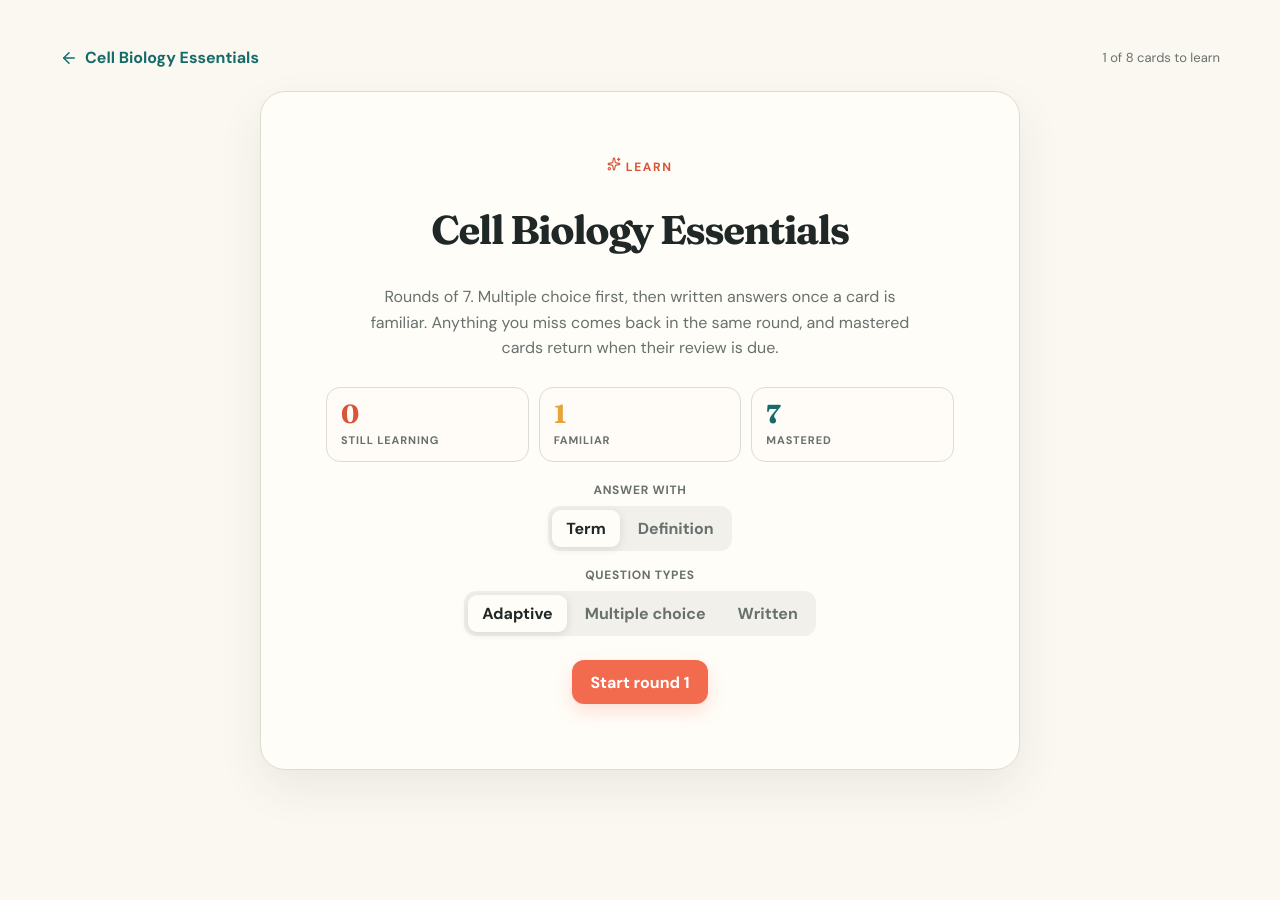
Test case: learn mode › asks familiar cards in writing and retypes the answer after a miss
The width and height of the screenshot is (1280, 900).
Click the button "Start round 1" at {"x": 640, "y": 682}, box left=572, top=660, right=708, bottom=704
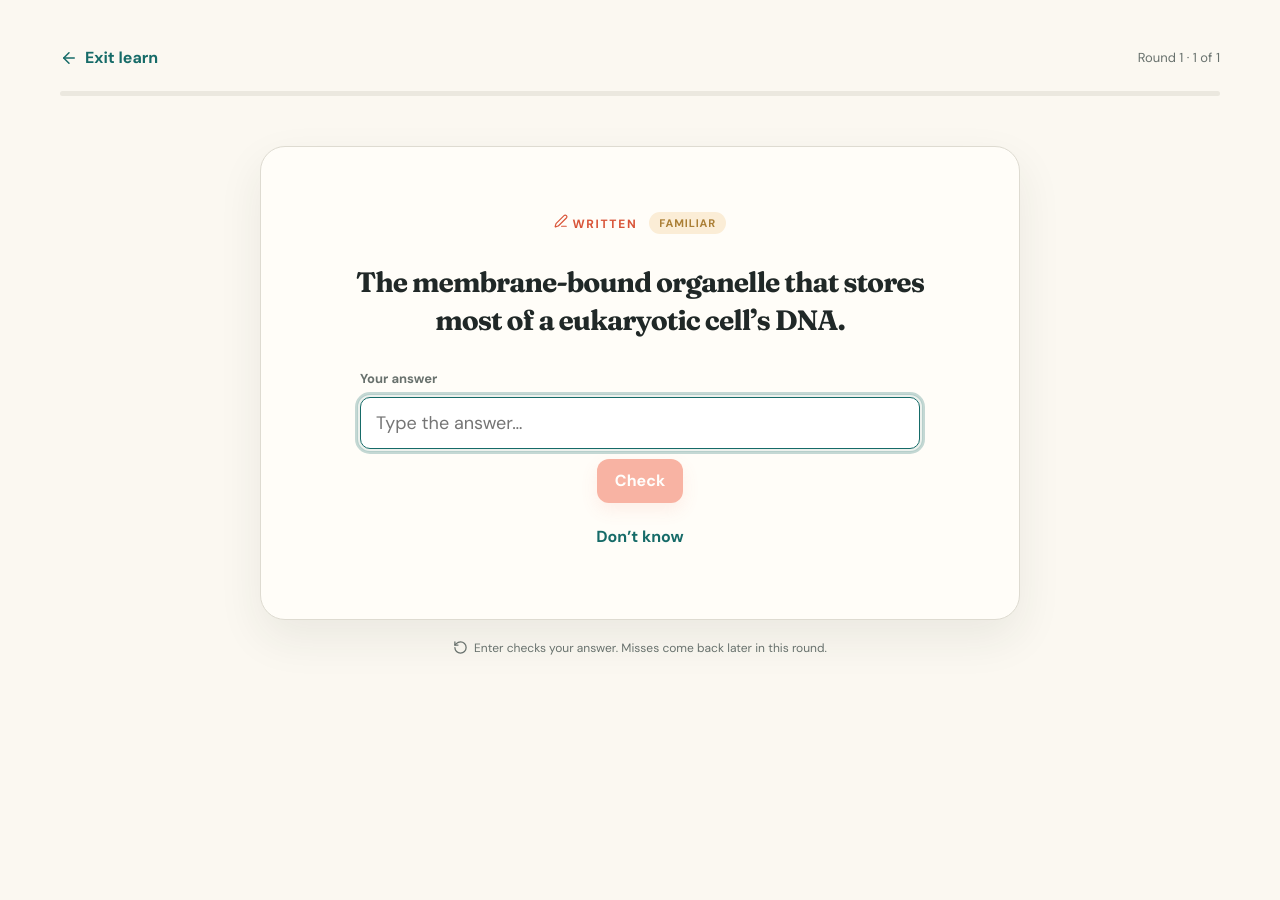
Now the heading reads "The membrane-bound organelle that stores most of a eukaryotic cell’s DNA.", box left=356, top=265, right=924, bottom=337
Type "Ribosome" into the field labelled "Your answer" at {"x": 640, "y": 423}, box left=360, top=397, right=920, bottom=449
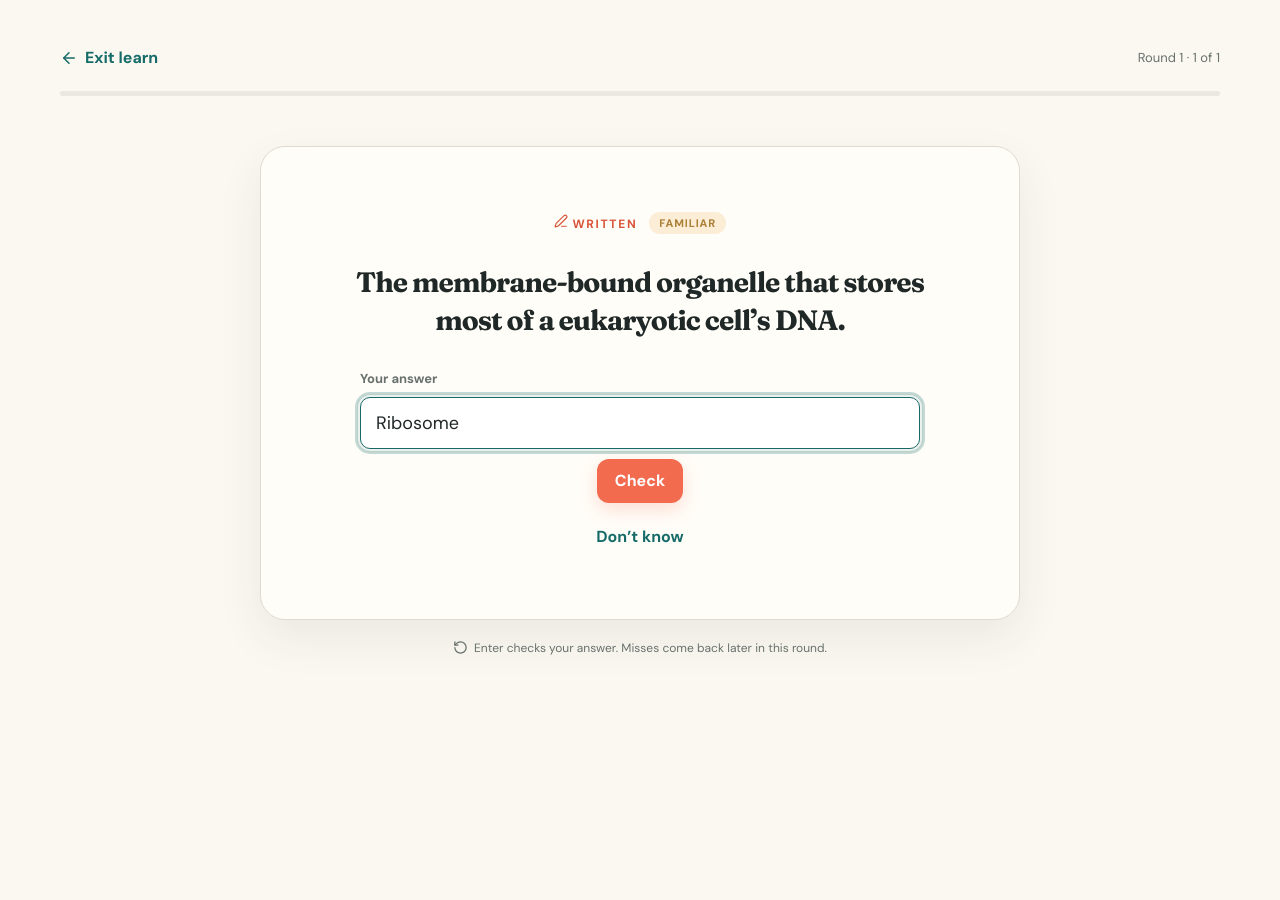
Click the button "Check" at {"x": 640, "y": 481}, box left=597, top=459, right=683, bottom=503
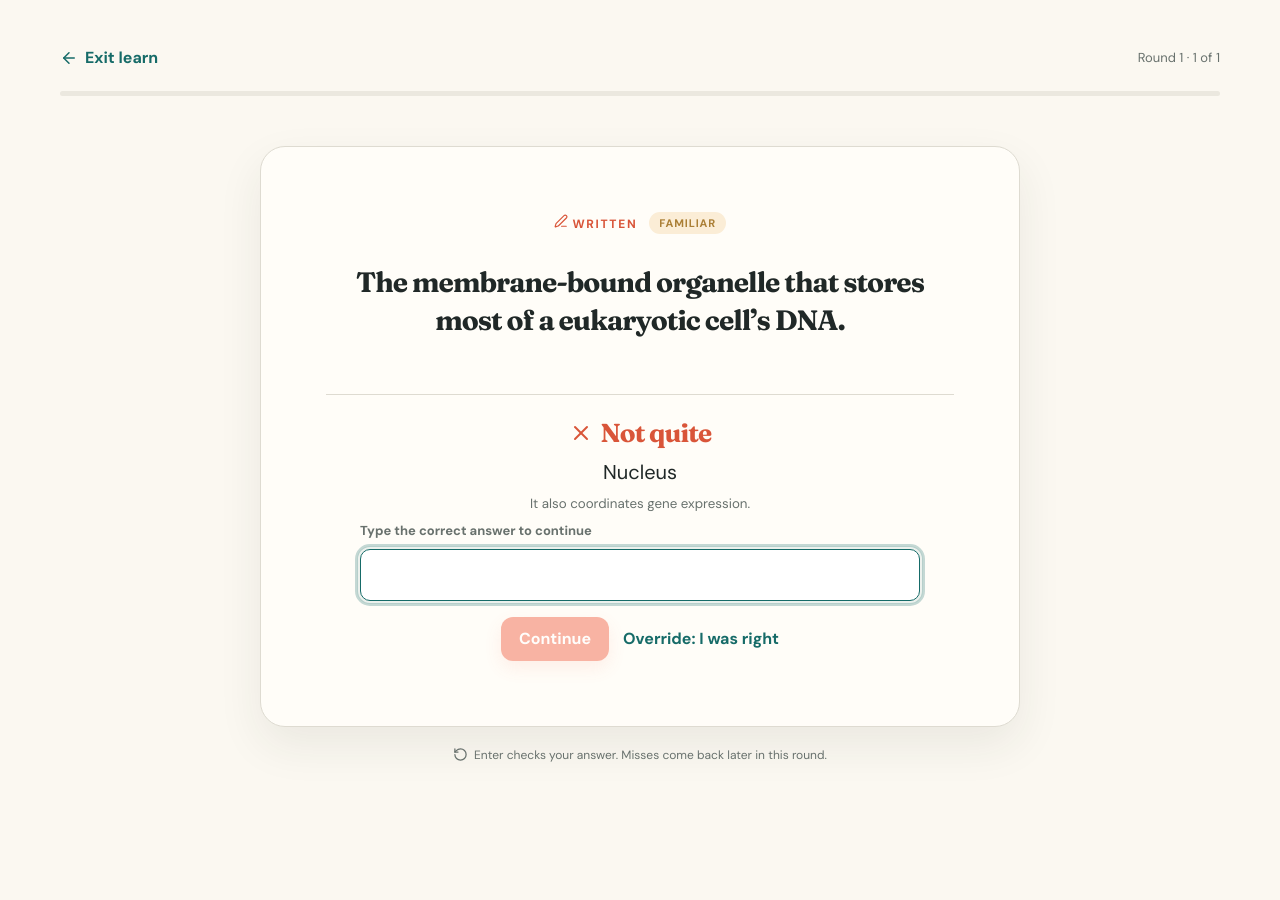
Now the button "Continue" is disabled, box left=501, top=617, right=609, bottom=661
Type "nucleus" into the field labelled "Type the correct answer to continue" at {"x": 640, "y": 575}, box left=360, top=549, right=920, bottom=601
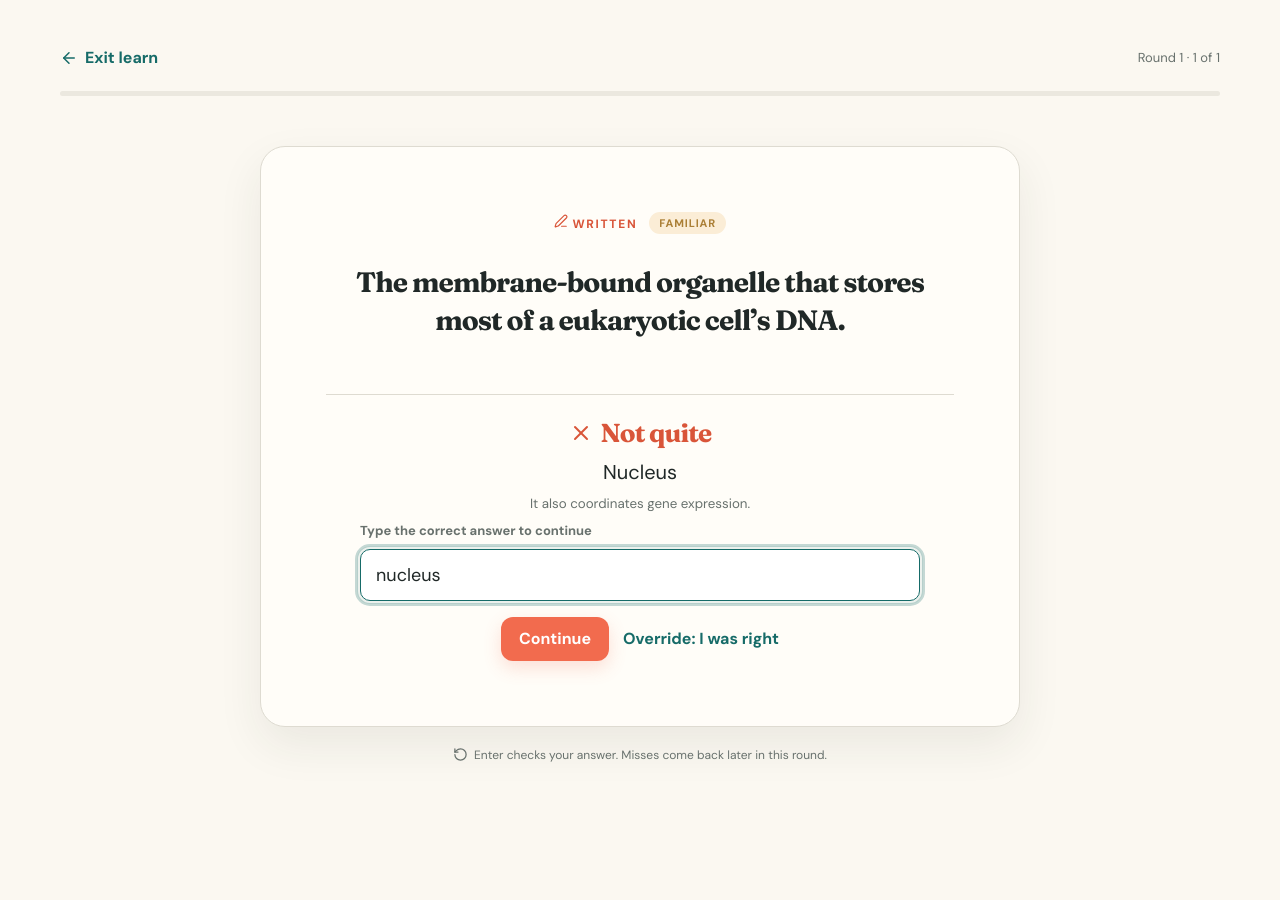
Click the button "Continue" at {"x": 555, "y": 639}, box left=501, top=617, right=609, bottom=661
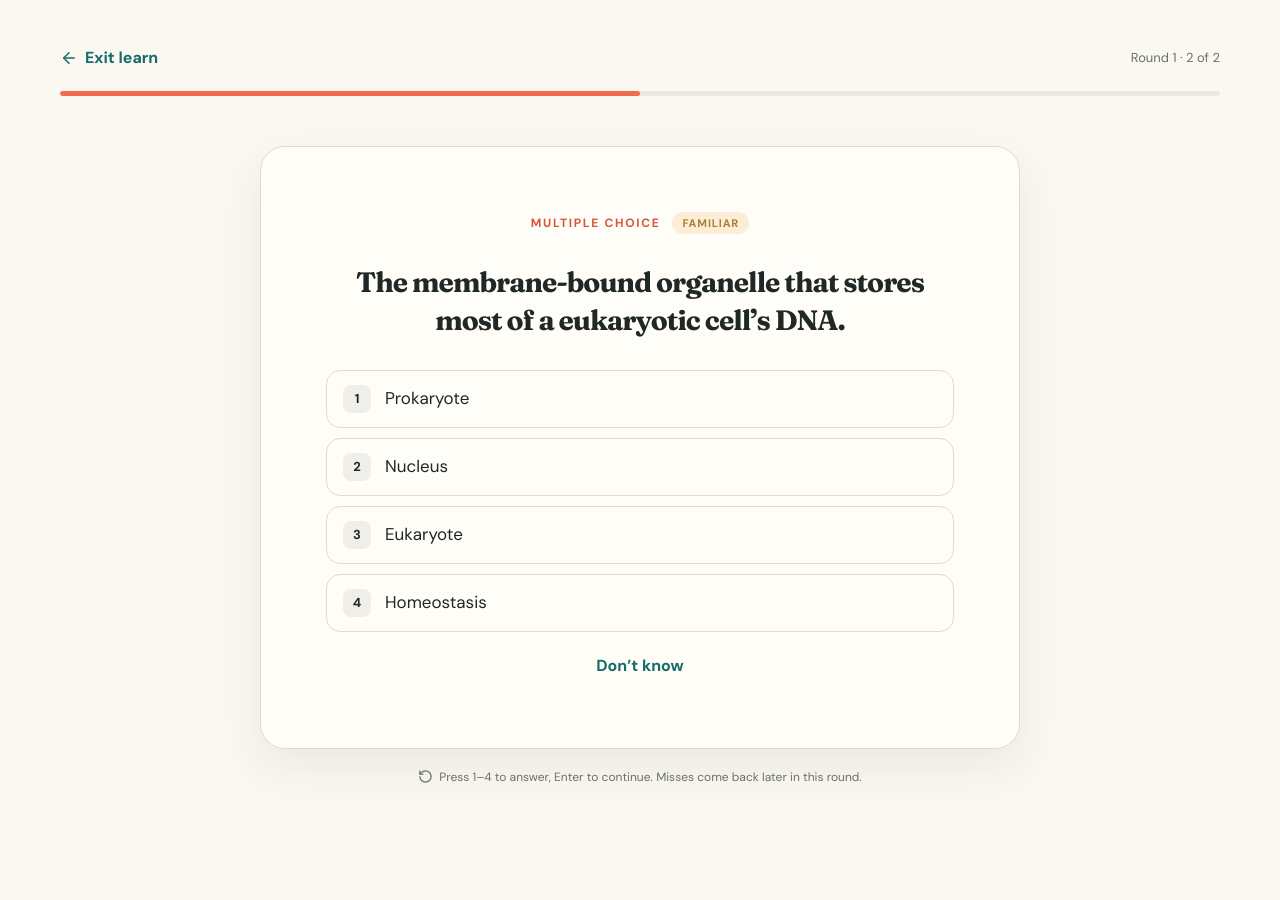
Now the heading reads "The membrane-bound organelle that stores most of a eukaryotic cell’s DNA.", box left=356, top=265, right=924, bottom=337
Now the text "Multiple choice" is shown, box left=531, top=215, right=660, bottom=231
